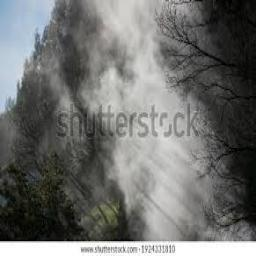Low smoke: (61, 3, 225, 240)
